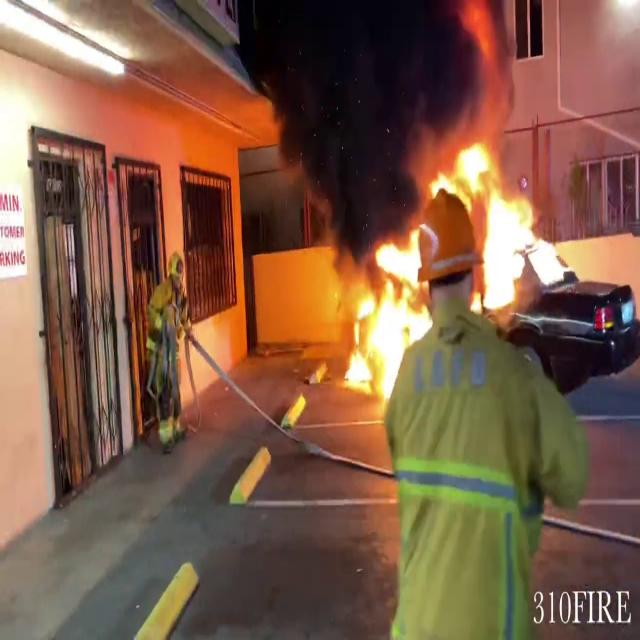Fire: (427, 129, 568, 310), (328, 230, 429, 398)
